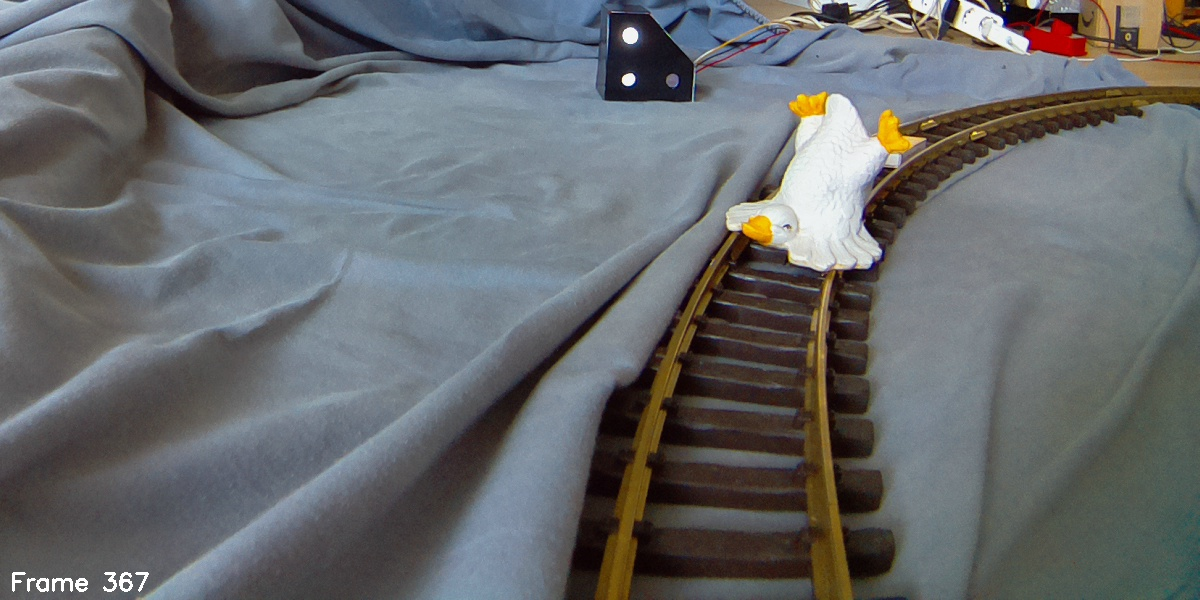Ente: (723, 89, 906, 275)
Fahrt: (598, 2, 697, 103)
